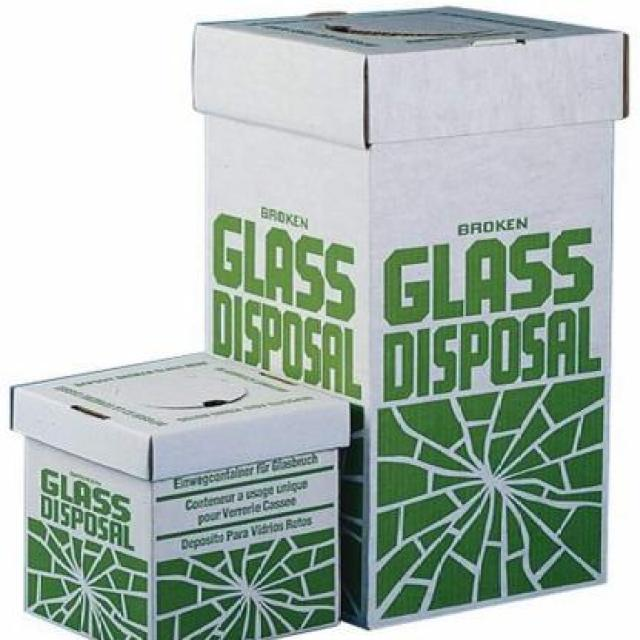box: (182, 6, 630, 640), (0, 337, 354, 640)
